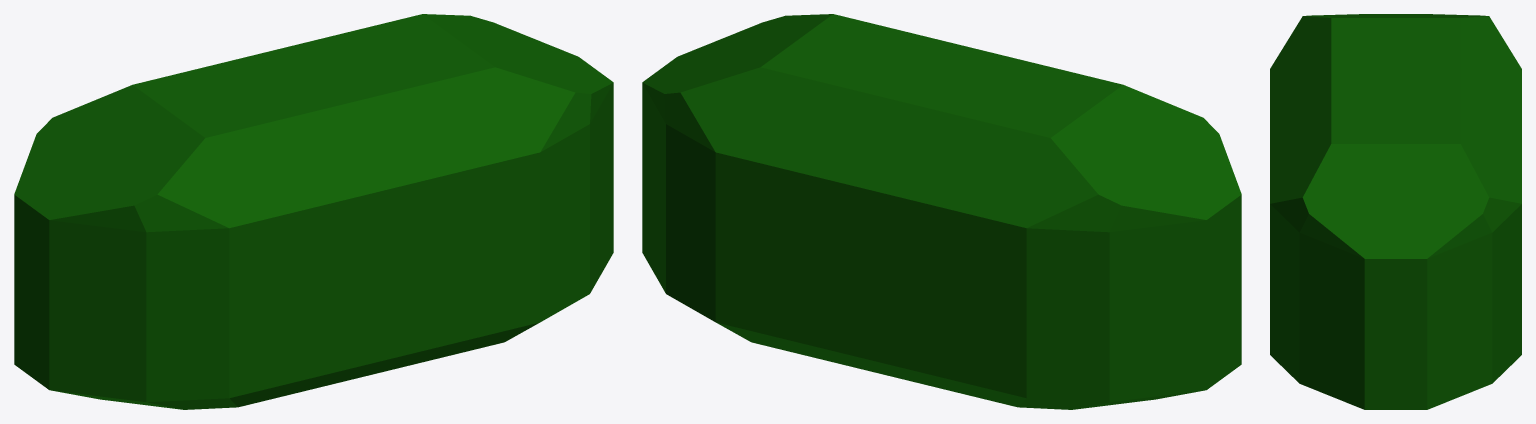
The picture shows the model from 3 angles, left to right: view 1: azimuth 30°, elevation 25°; view 2: azimuth 150°, elevation 25°; view 3: azimuth 270°, elevation 25°; orthographic projection. The views are drawn at different scales.
Parts seen in each view (by area): view 1: Cube; view 2: Cube; view 3: Cube.
Boxes of the visible parts, x1,y1,x2,y2 form: Cube: (14, 14, 613, 409); Cube: (642, 14, 1241, 409); Cube: (1270, 14, 1521, 409).
Bounding box in the file's own units: 460 × 200 × 200.
